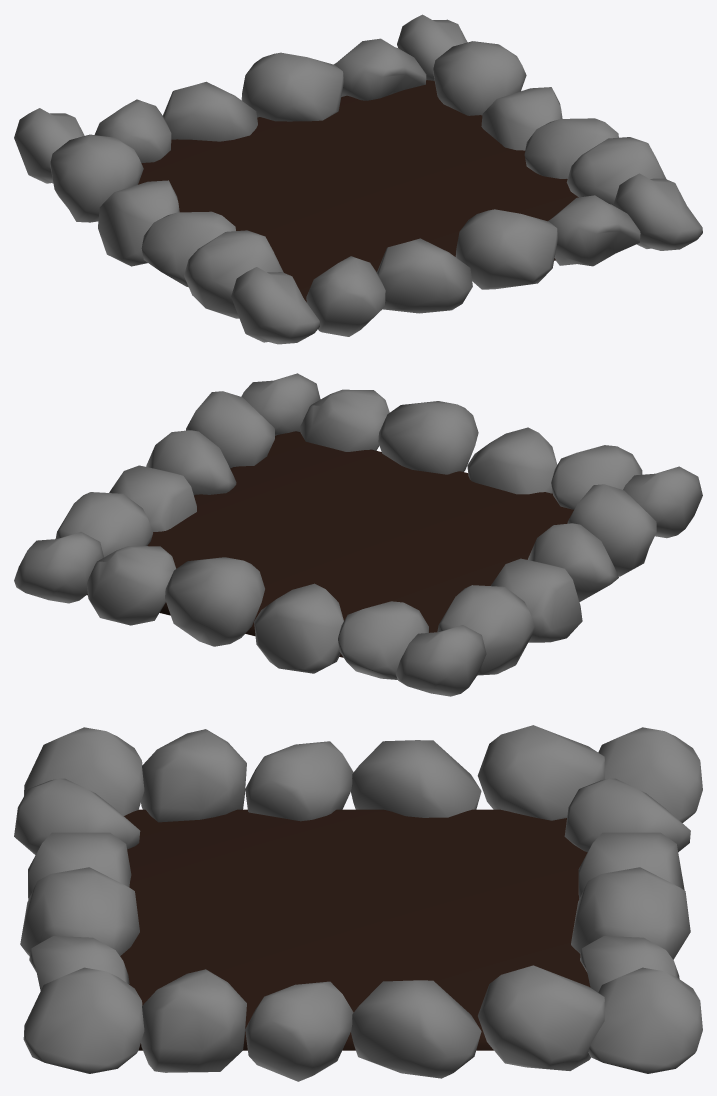
The model's file is SM_flowerbed_01.fbx.
3 views of the same model, one above another, from view 1: azimuth 30°, elevation 25°; view 2: azimuth 150°, elevation 25°; view 3: azimuth 270°, elevation 25° (orthographic). The views are drawn at different scales.
Visible parts, largest first — view 1: Box047; view 2: Box047; view 3: Box047.
Part boxes in pixels (box(x1,y1,x2,y2)): Box047: box(14, 14, 702, 344); Box047: box(14, 373, 702, 696); Box047: box(14, 725, 702, 1081).
Bounding box in the file's own units: 60.8 × 9.96 × 60.29.
